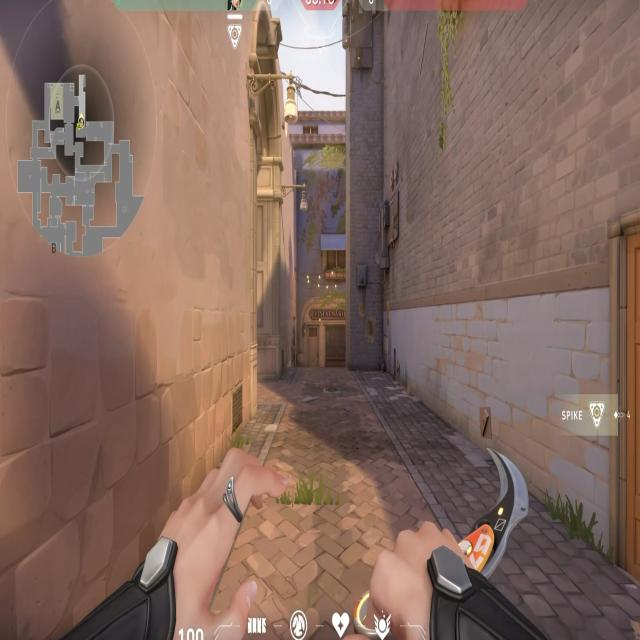Wine: (291, 263, 361, 377)
